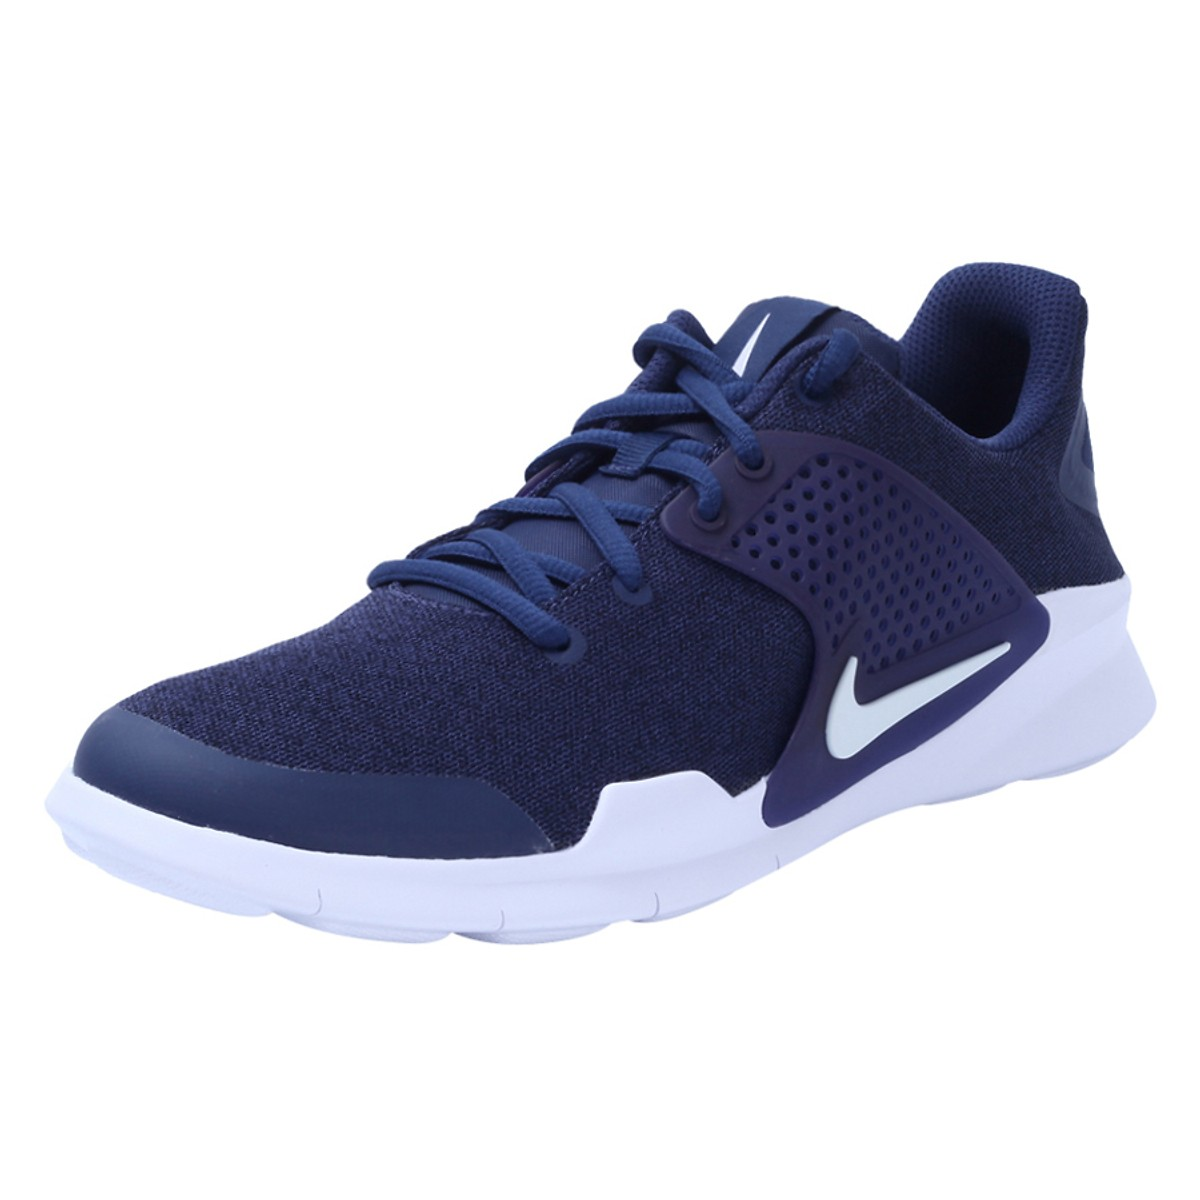Nike: (757, 601, 1068, 853)
